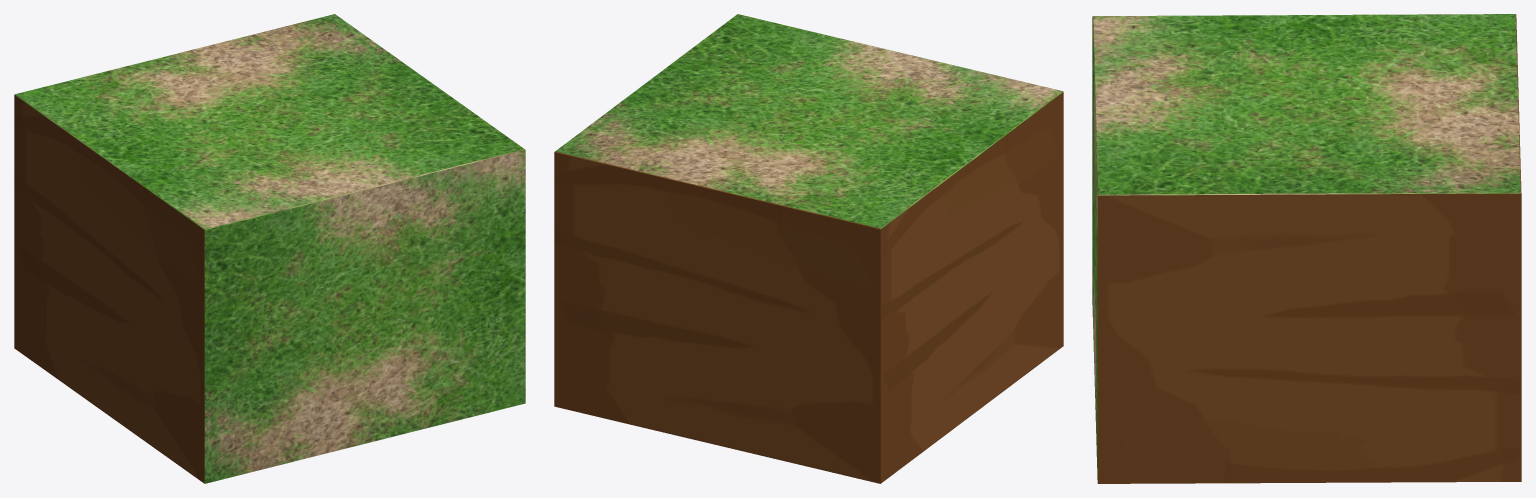
Rendered from Main Cube1.glb.
3 renders of one model, left to right at view 1: azimuth 30°, elevation 25°; view 2: azimuth 150°, elevation 25°; view 3: azimuth 270°, elevation 25°, orthographic. The views are drawn at different scales.
Visible parts, largest first — view 1: Main Cube1; view 2: Main Cube1; view 3: Main Cube1.
Part boxes in pixels (x1,y1,x2,y2): Main Cube1: [14, 14, 525, 483]; Main Cube1: [554, 14, 1063, 483]; Main Cube1: [1092, 14, 1521, 483].
Size of the model in its own units: 1.01 by 0.7522 by 1.01.
Materials: 3 (2 with a texture image).
